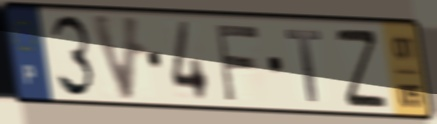3: (45, 12, 96, 100)
4: (170, 18, 212, 103)
F: (211, 22, 262, 104)
T: (282, 28, 324, 106)
V: (88, 11, 144, 104)
Z: (332, 27, 391, 110)
